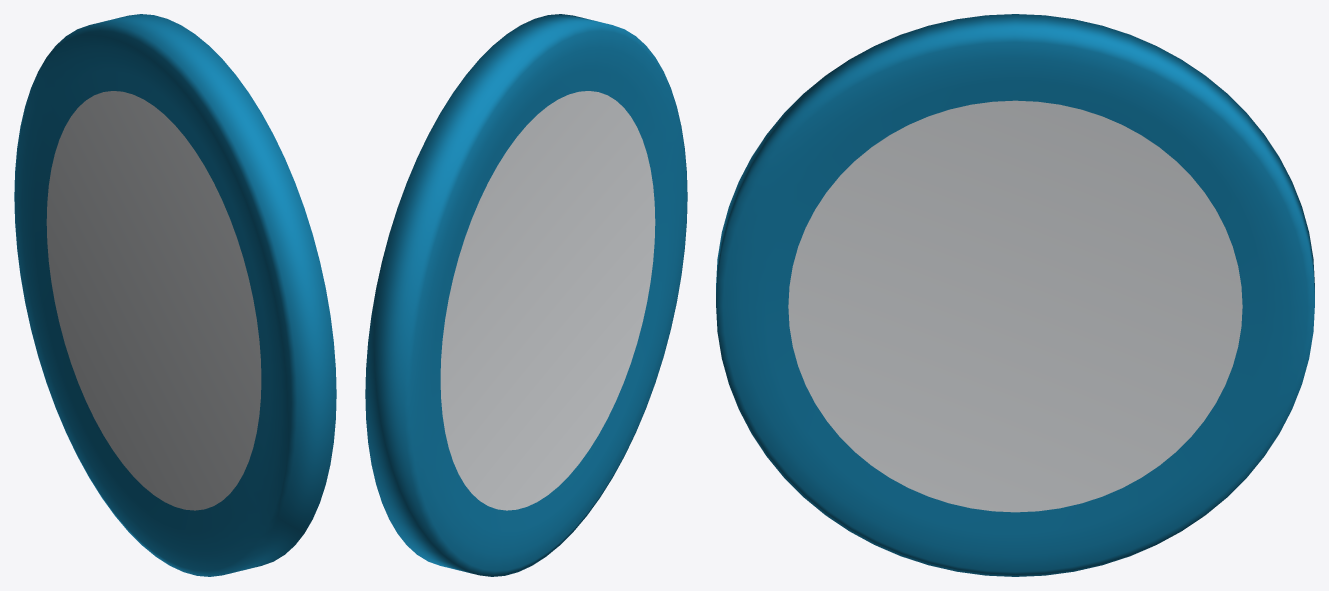
Rendered from Multiplierv3.glb.
3 views of the same model, side by side, from view 1: azimuth 30°, elevation 25°; view 2: azimuth 150°, elevation 25°; view 3: azimuth 270°, elevation 25° (orthographic). The views are drawn at different scales.
Parts seen in each view (by area): view 1: Multipliyer; view 2: Multipliyer; view 3: Multipliyer.
Part boxes in pixels (x1,y1,x2,y2): Multipliyer: [14, 14, 336, 576]; Multipliyer: [365, 14, 687, 576]; Multipliyer: [716, 14, 1314, 576].
Bounding box in the file's own units: 0.1919 × 2 × 2.
